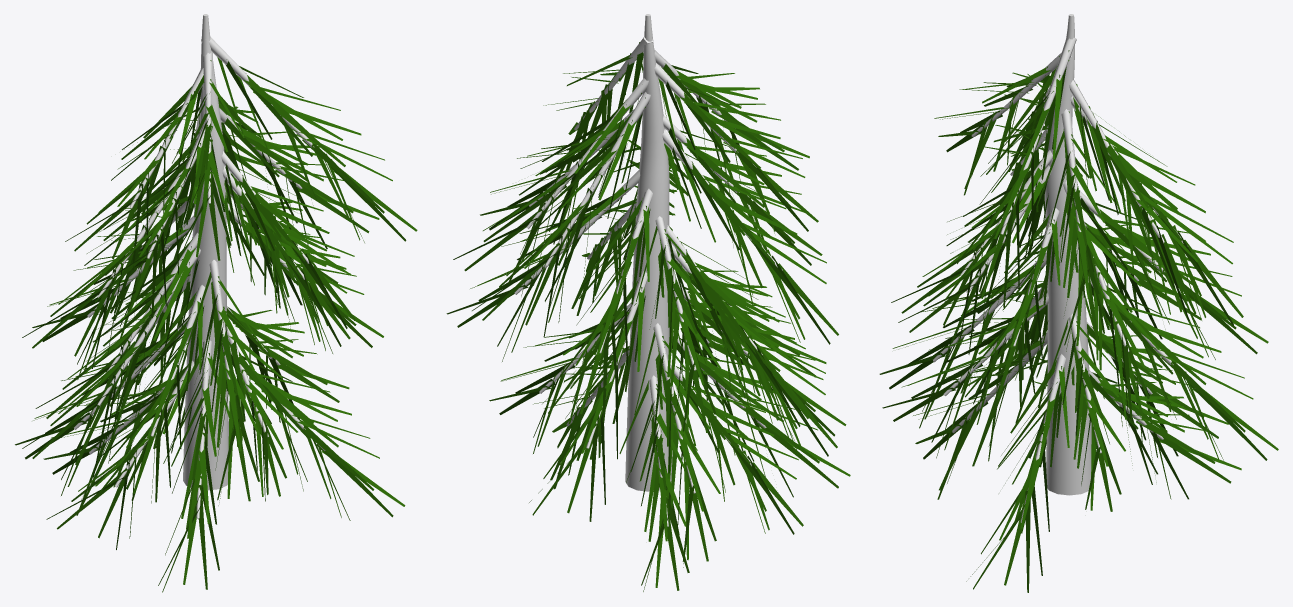
File: Tree03.fbx
3 renders of one model, left to right at view 1: azimuth 30°, elevation 25°; view 2: azimuth 150°, elevation 25°; view 3: azimuth 270°, elevation 25°, orthographic.
Parts seen in each view (by area): view 1: Tree03; view 2: Tree03; view 3: Tree03.
Boxes of the visible parts, x1,y1,x2,y2 form: Tree03: [15, 14, 417, 592]; Tree03: [446, 14, 850, 591]; Tree03: [879, 14, 1278, 592].
Bounding box in the file's own units: 872 × 1205 × 834.
